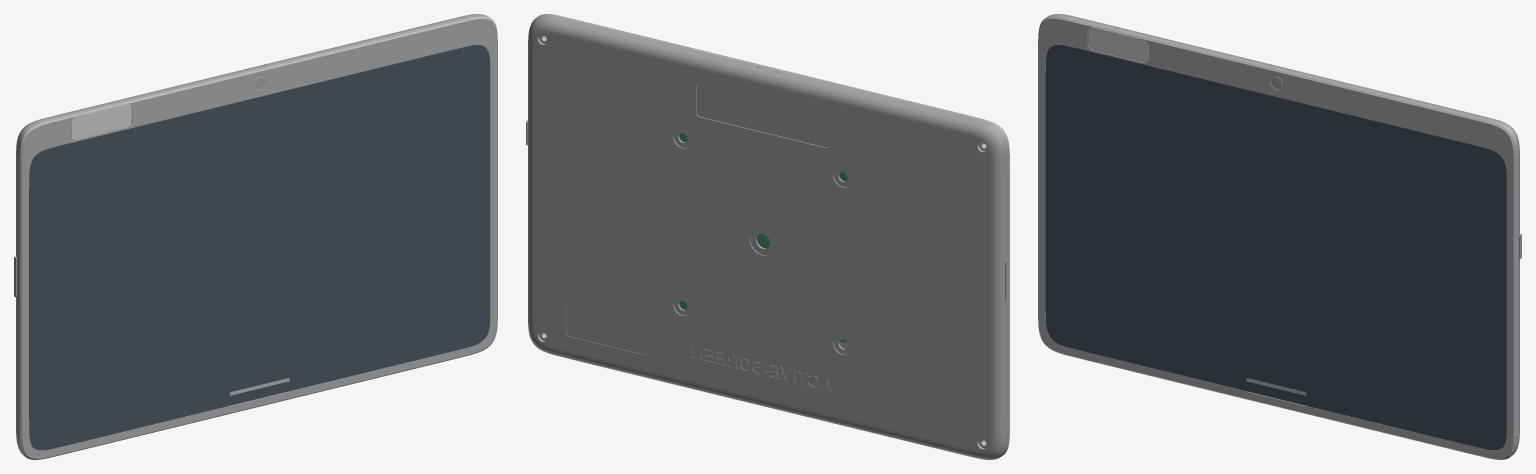
The model's file is assembly.glb.
The picture shows the model from 3 angles, left to right: view 1: azimuth 30°, elevation 25°; view 2: azimuth 150°, elevation 25°; view 3: azimuth 330°, elevation 25°; orthographic projection.
Visible parts, largest first — view 1: glass, front, rear, uv_badge; view 2: rear, front; view 3: glass, front, rear, uv_badge.
Part boxes in pixels (bbox=[...]): glass: bbox=[29, 45, 490, 450]; front: bbox=[17, 15, 497, 459]; rear: bbox=[14, 14, 486, 454]; uv_badge: bbox=[71, 104, 131, 139]; rear: bbox=[526, 15, 1007, 459]; front: bbox=[538, 14, 1009, 455]; glass: bbox=[1045, 45, 1506, 450]; front: bbox=[1038, 15, 1518, 459]; rear: bbox=[1049, 14, 1521, 454]; uv_badge: bbox=[1088, 27, 1148, 62].
Size of the model in its own units: 0.2249 by 0.151 by 0.00764.
